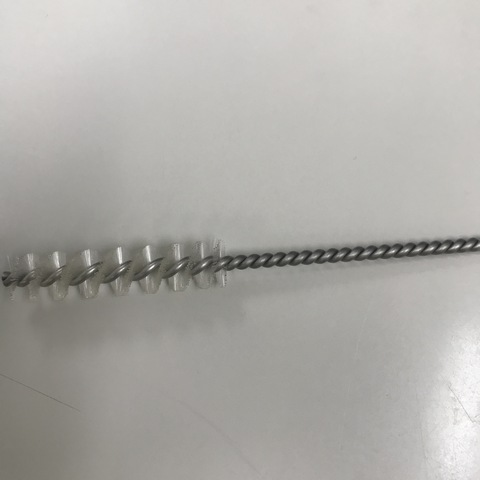Twist Brush-B: (4, 236, 480, 304)
